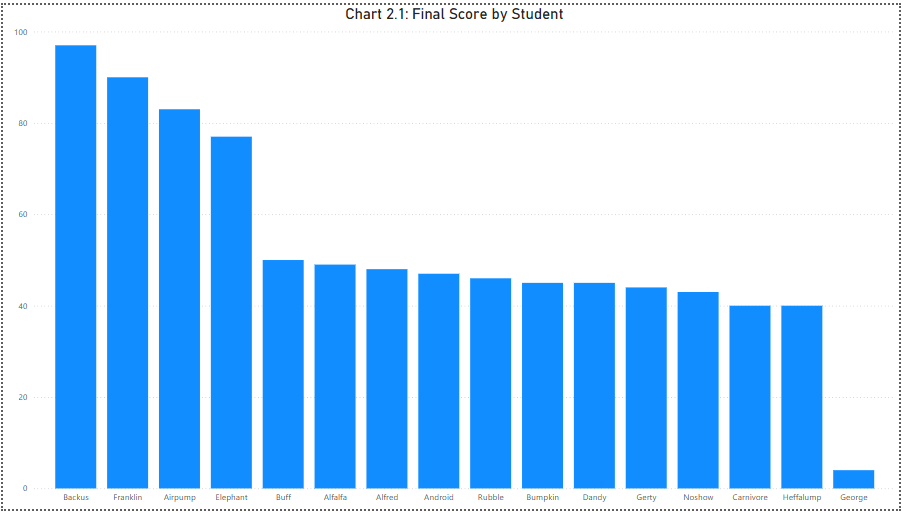

This screenshot's page, from the dashboard's own definition file:
{"tool":"powerbi","page":{"name":"ColChart-Final","canvas":[1280,720],"ordinal":1},"visuals":[{"type":"clusteredColumnChart","title":"Chart 2.1: Final Score by Student","fields":{"Y":["Sum(grades.Final)"],"Category":["grades.Last name"]},"box":[10.1,0,1269.9,720.6],"z":0}]}

Visuals, with their boxes in screenshot pixels (x1, y1, x2, y2), scaled from the page's 1280x720 canvas onto the 904x513 screenshot:
"Chart 2.1: Final Score by Student" clusteredColumnChart: box=[7, 0, 903, 512]
